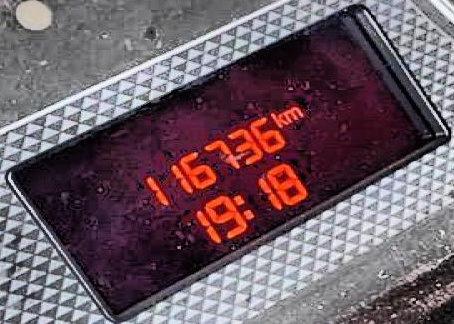1: (194, 209, 219, 242), (256, 176, 281, 208), (142, 175, 167, 205), (169, 163, 192, 192)
3: (226, 127, 262, 163)
6: (177, 151, 216, 188), (247, 116, 284, 152)
7: (202, 139, 237, 169)
8: (264, 162, 305, 205)
9: (202, 195, 246, 239)
X: (231, 194, 252, 220), (282, 106, 301, 122), (269, 112, 285, 127)
